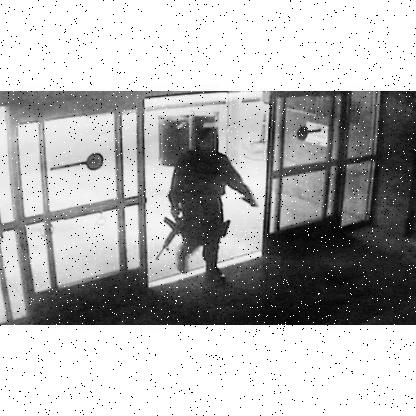gun: (146, 192, 202, 260)
